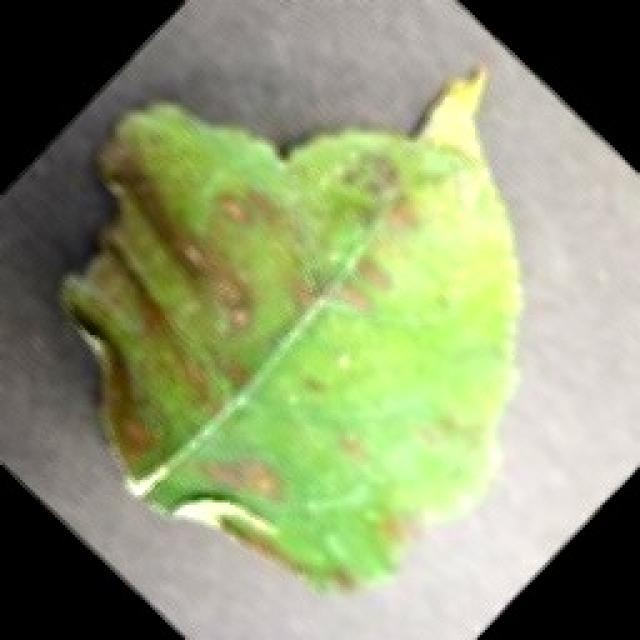leaves: (39, 66, 554, 615)
